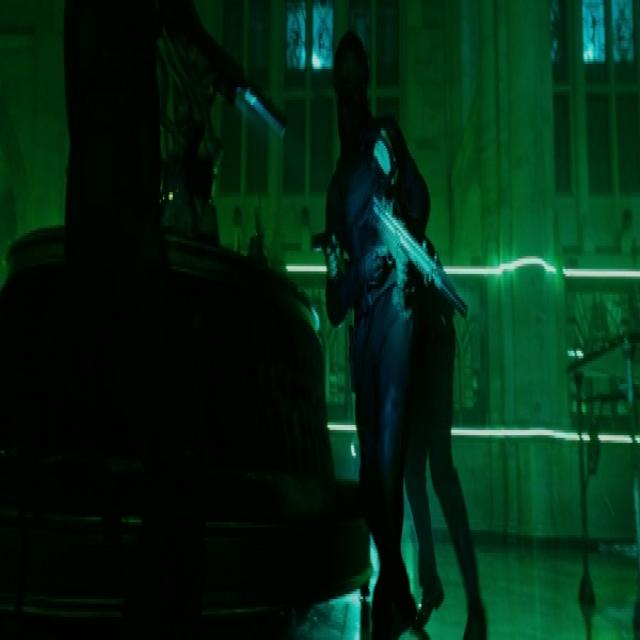rifle: (365, 198, 472, 329)
